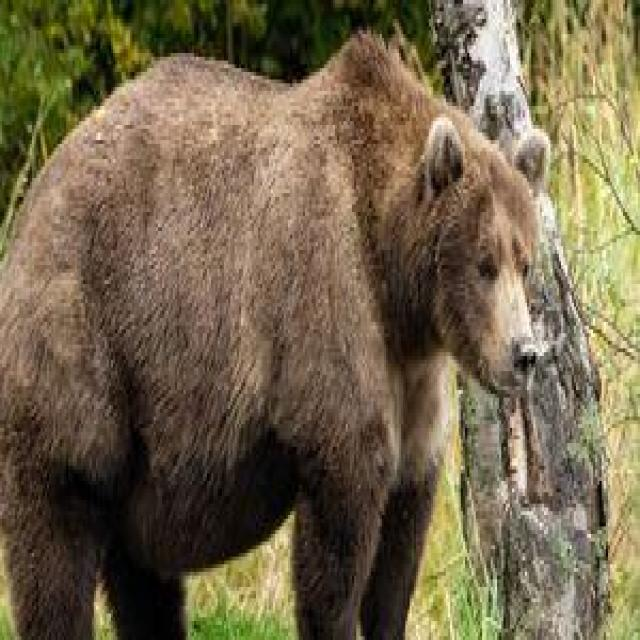Bear: (0, 30, 550, 640)
